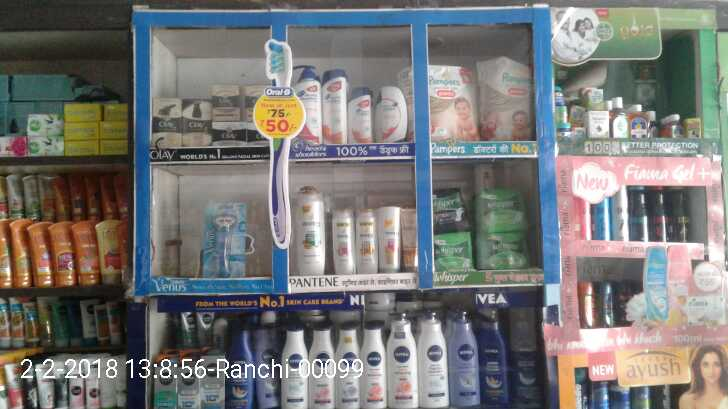venus: (201, 202, 248, 275)
